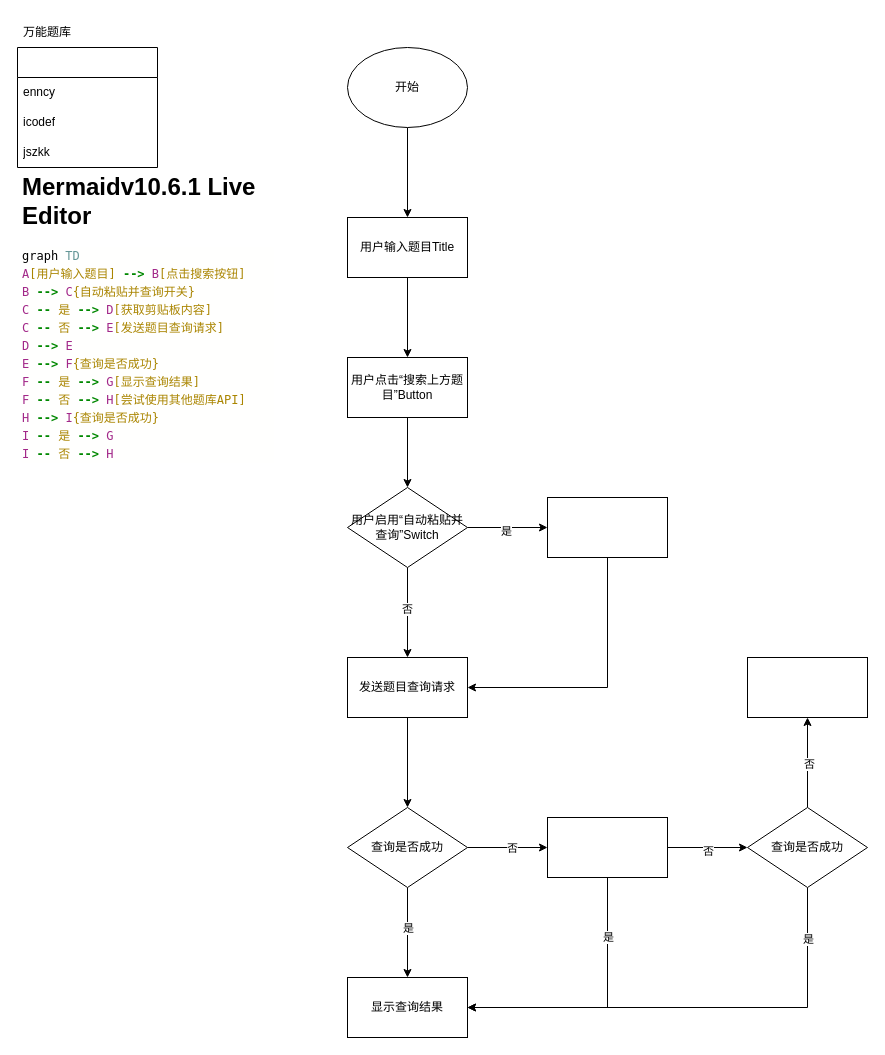
This 885x1055 diagram has some shape labels left out. The box of each missing label's shape, as (x1, y1, x2, y2) in pixels:
尝试使用别的题库: (546, 816, 668, 878)
查询失败: (746, 656, 868, 718)
获取剪贴板内容: (546, 496, 668, 558)
题库 API: (16, 46, 158, 168)
